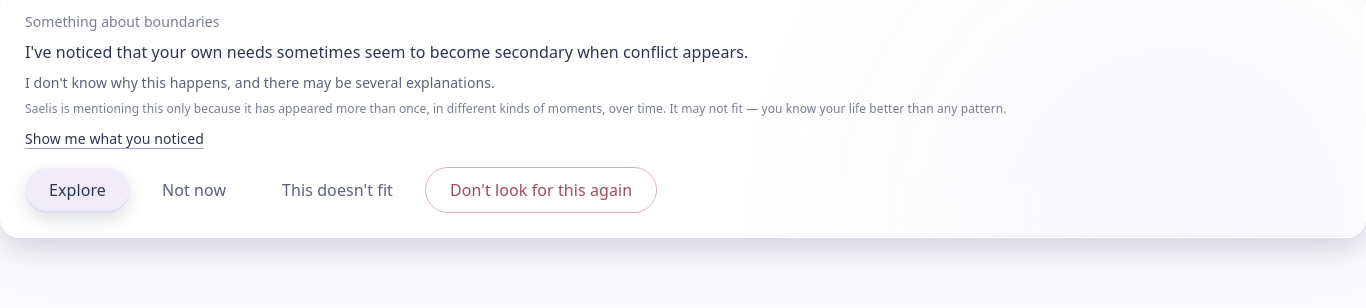
Scenario: InsightsView — quiet, reviewable, user-controlled › lets the user inspect content-free evidence
Click the button "Show me what you noticed".
click(114, 139)  # box [25,129,204,149]
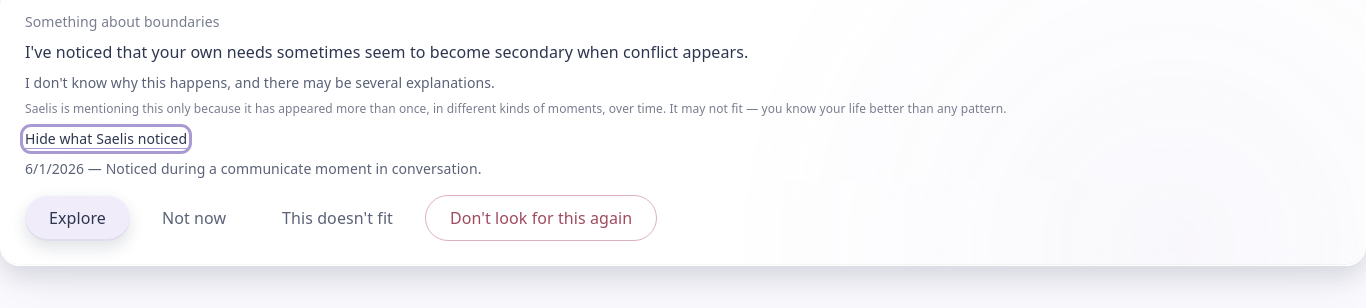
expect the list item "Noticed during a communicate moment in conversation." is shown: met, box [106,159,481,178]
